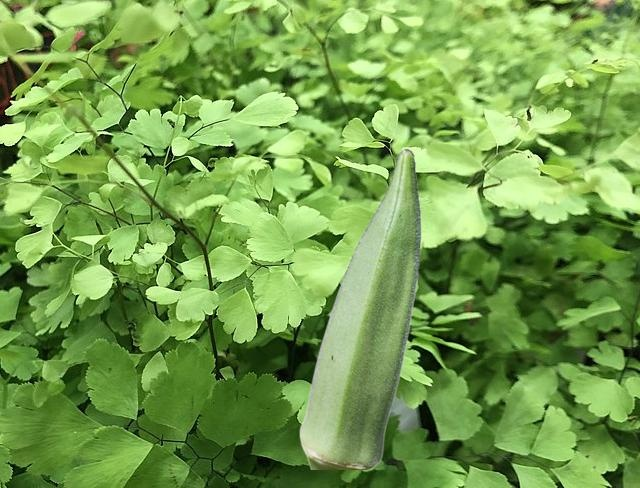okra: (299, 148, 420, 468)
